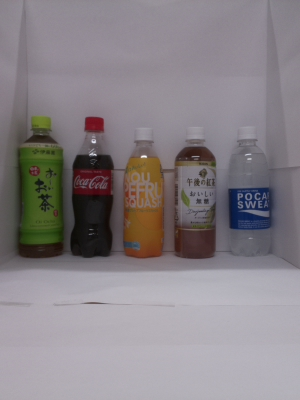おーいお茶: (13, 111, 67, 265)
グレープフルーツスカッシュ: (118, 123, 168, 265)
コーラ: (68, 107, 117, 266)
ポカリスエット: (225, 117, 276, 262)
午後の紅茶: (170, 119, 222, 265)
